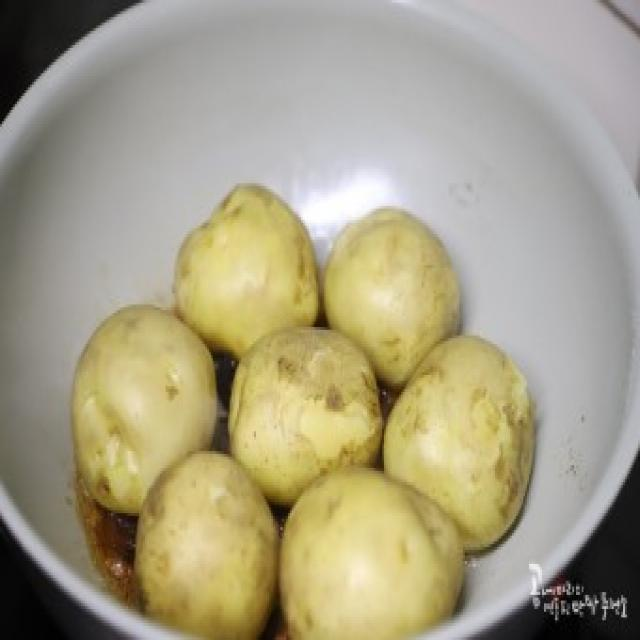potato: (276, 463, 465, 640), (384, 331, 536, 548), (69, 304, 217, 516), (134, 449, 276, 640), (228, 326, 384, 499), (324, 202, 462, 386), (175, 180, 322, 352)
